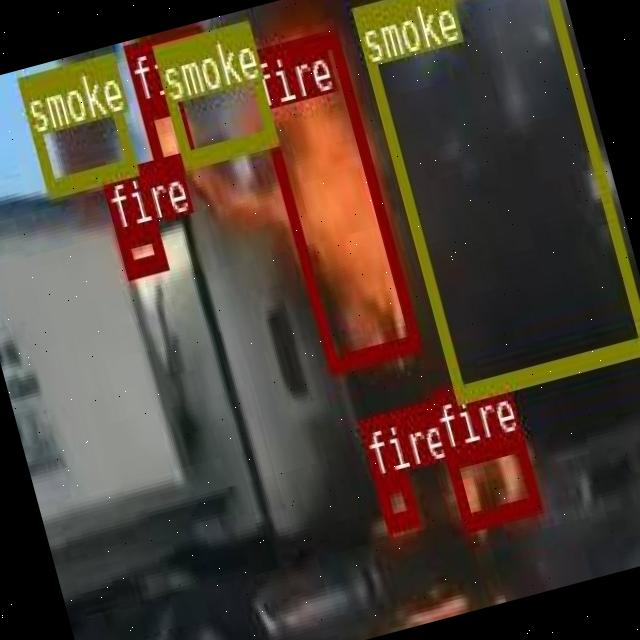fire: (243, 28, 419, 370), (444, 432, 540, 528), (136, 92, 194, 172), (114, 220, 166, 276), (374, 471, 417, 528)
smoke: (349, 0, 640, 401), (150, 20, 276, 167), (15, 54, 135, 195)
